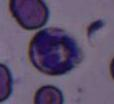N: (28, 27, 83, 74)
